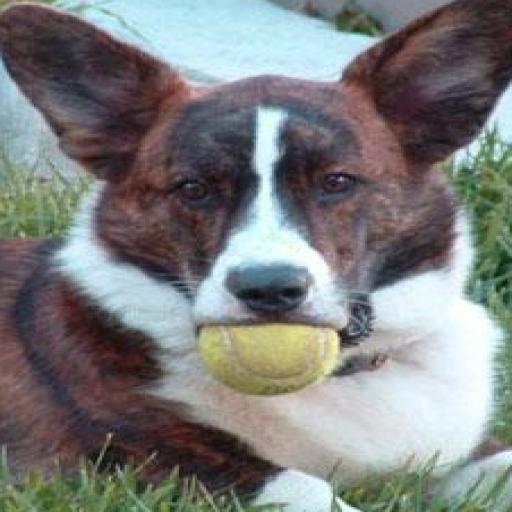dog_face: (0, 0, 509, 371)
